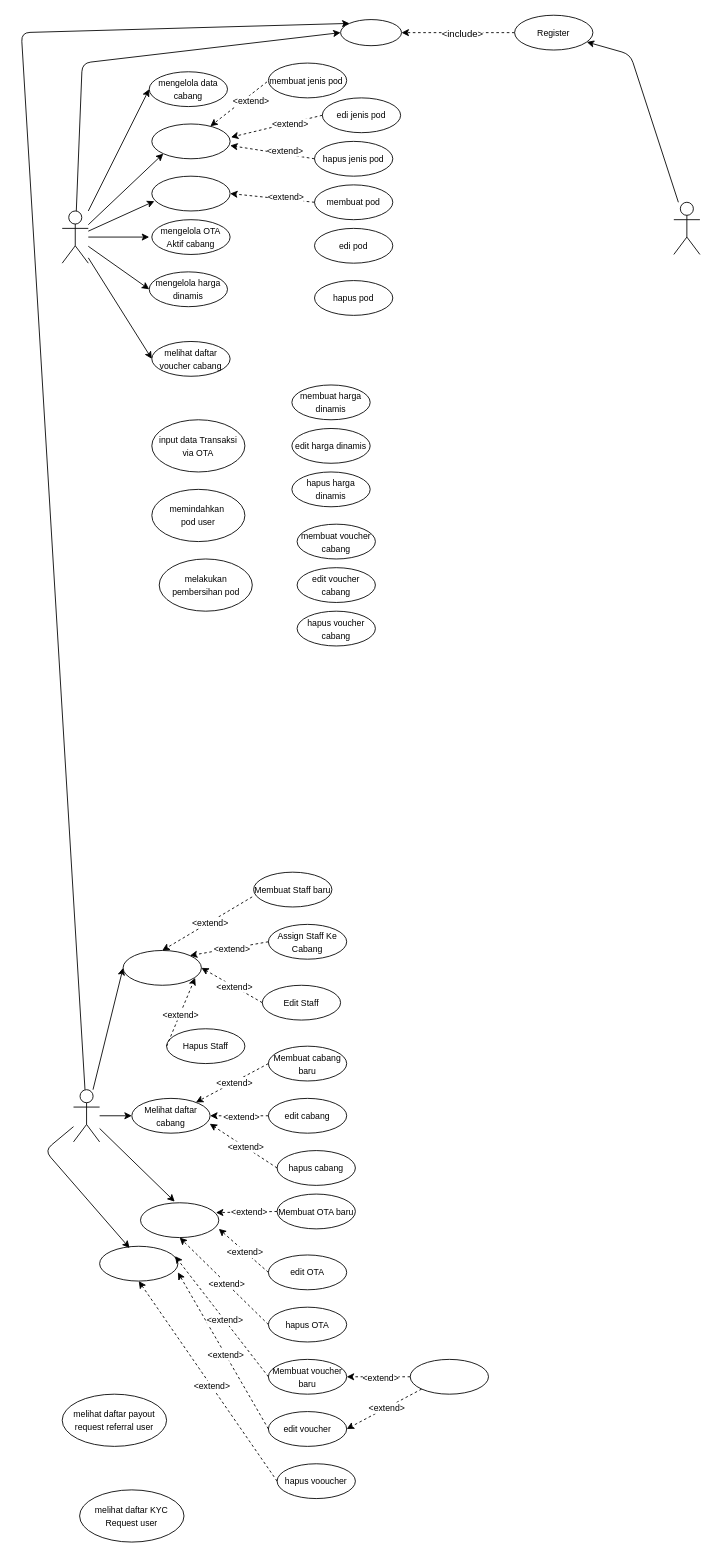
Some shapes in this 715 by 1557 pixel diagram are drawn without their labels. The shapes that lost their labels are listed below. From the top down, each one's box as (x1, y1, x2, y2) in pixels, then its label:
(340, 19, 402, 46): Login
(151, 123, 230, 159): melihat daftar jenis pod
(151, 175, 230, 211): melihat daftar pod
(61, 210, 88, 263): Admin Cabang
(673, 201, 700, 254): User
(122, 950, 201, 985): melihat daftar staff
(73, 1089, 100, 1142): Admin Pusat
(140, 1202, 219, 1238): Melihat Daftar OTA
(99, 1245, 178, 1281): Melihat daftar Voucher
(409, 1359, 489, 1394): Assign voucher ke cabang
